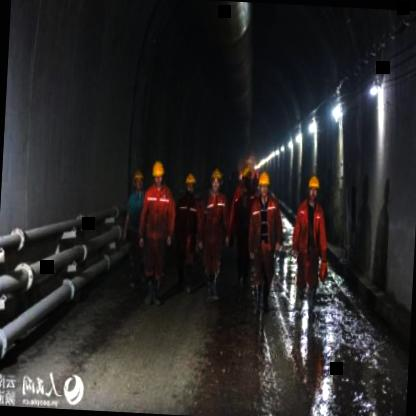helmet: (304, 174, 322, 204), (256, 168, 272, 198), (182, 168, 198, 198), (208, 165, 224, 192), (149, 157, 165, 184), (130, 166, 146, 192), (238, 166, 252, 190)
